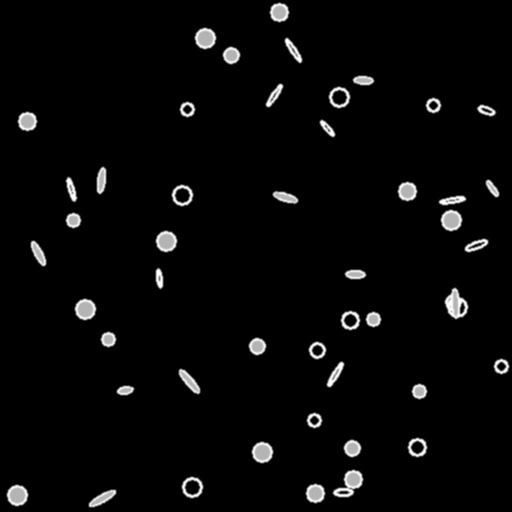pseudomonas: (178, 368, 200, 394), (88, 488, 116, 508), (283, 37, 303, 63), (326, 361, 344, 387), (29, 240, 47, 266), (265, 84, 283, 106), (464, 238, 488, 252), (273, 191, 297, 203), (65, 177, 77, 201), (319, 119, 335, 137), (96, 167, 106, 193), (485, 179, 499, 197), (451, 288, 459, 318), (477, 104, 495, 116), (440, 196, 464, 204), (345, 270, 365, 278), (333, 488, 353, 496), (155, 268, 163, 288), (117, 386, 133, 394), (354, 77, 372, 83)
synechocystis: (76, 300, 94, 318), (8, 486, 26, 504), (173, 186, 191, 204), (196, 29, 214, 47), (183, 478, 201, 496), (253, 443, 271, 461), (442, 211, 460, 229), (157, 232, 175, 250), (330, 88, 348, 106), (448, 298, 466, 316), (342, 312, 358, 328), (399, 183, 415, 199), (307, 485, 323, 501), (19, 113, 35, 129), (409, 439, 425, 455), (345, 471, 361, 487), (271, 4, 287, 20), (250, 339, 264, 353), (224, 48, 238, 62), (310, 343, 324, 357), (345, 441, 359, 455), (446, 295, 460, 309), (367, 313, 379, 325), (308, 414, 320, 426), (427, 99, 439, 111), (102, 333, 114, 345), (181, 103, 193, 115), (413, 385, 425, 397), (495, 360, 507, 372), (67, 214, 79, 226)
